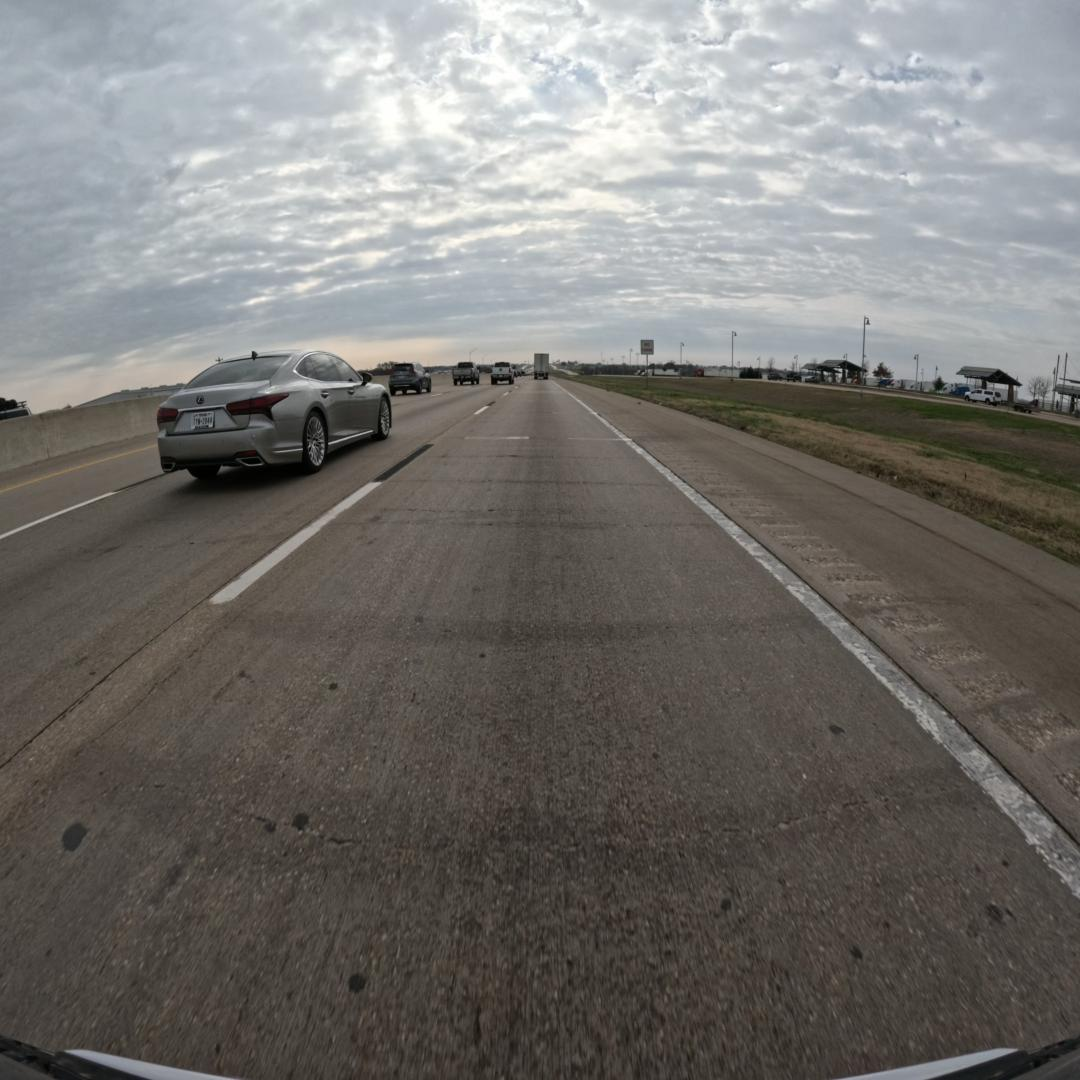lane0: (0, 379, 1080, 1079)
lane1: (0, 386, 514, 765)
